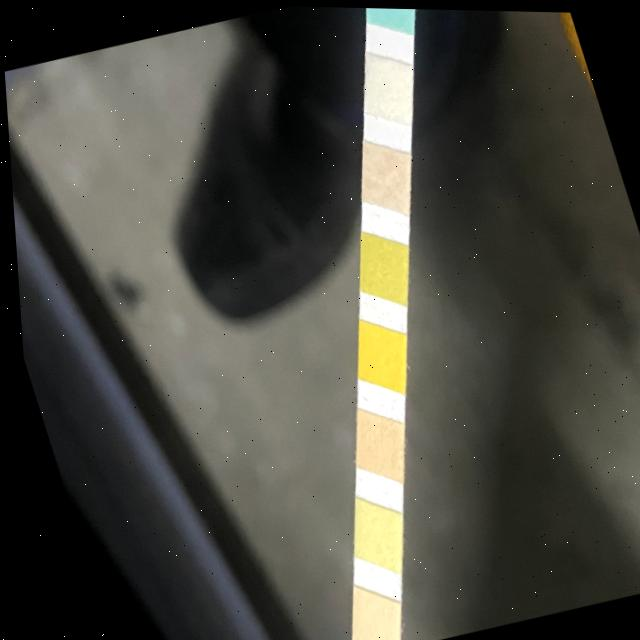Bilirubin: (364, 57, 409, 114)
Blood: (355, 325, 397, 381)
Glucose: (372, 6, 413, 22)
Ketone: (359, 146, 402, 203)
Protein: (349, 506, 391, 561)
SpGravity: (358, 238, 401, 292)
Urobilinogen: (345, 593, 388, 640)
pH: (352, 414, 392, 469)
